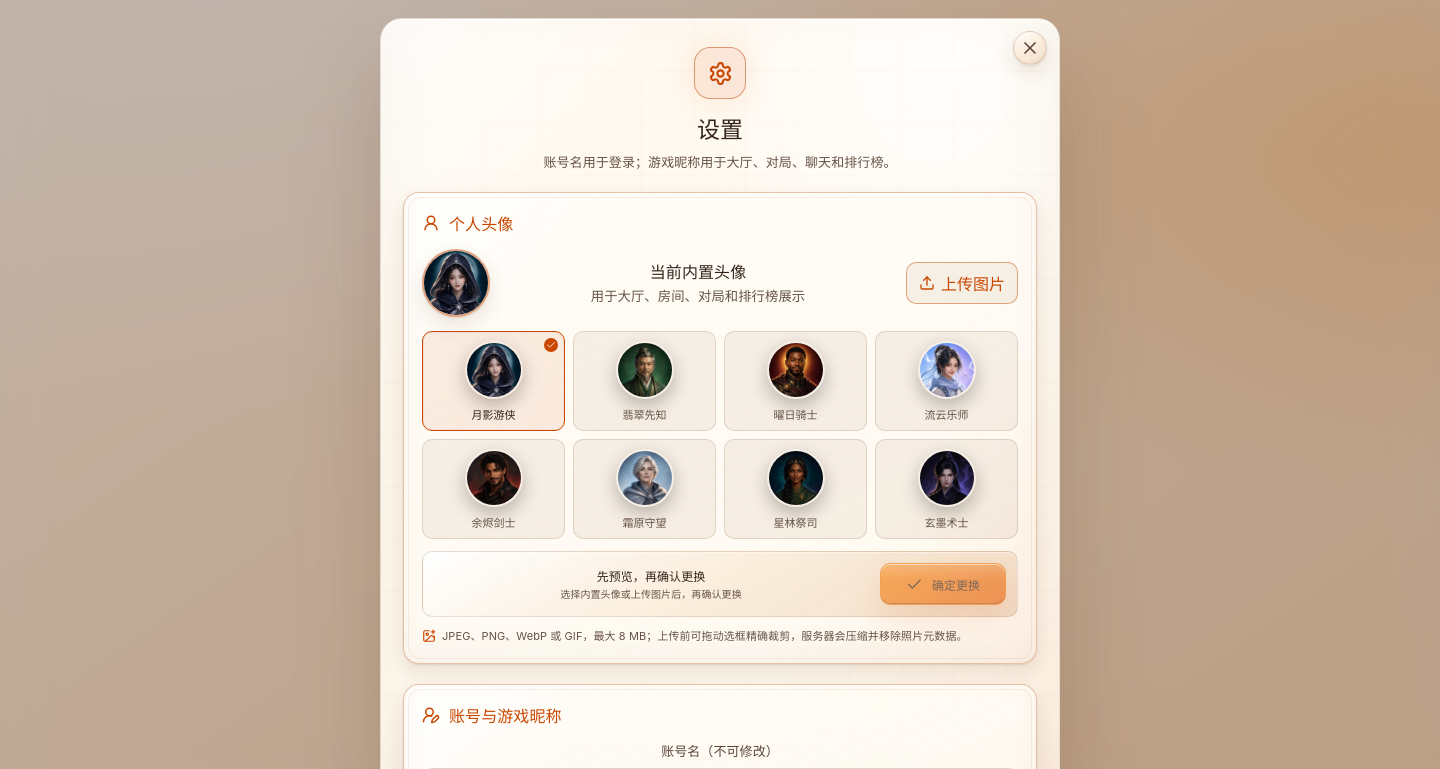
Test: SettingsModal › can discard a staged avatar without changing the account
The image size is (1440, 769).
Click the button "曜日骑士" at {"x": 796, "y": 381}, box top-left (724, 331), bottom-right (867, 431)
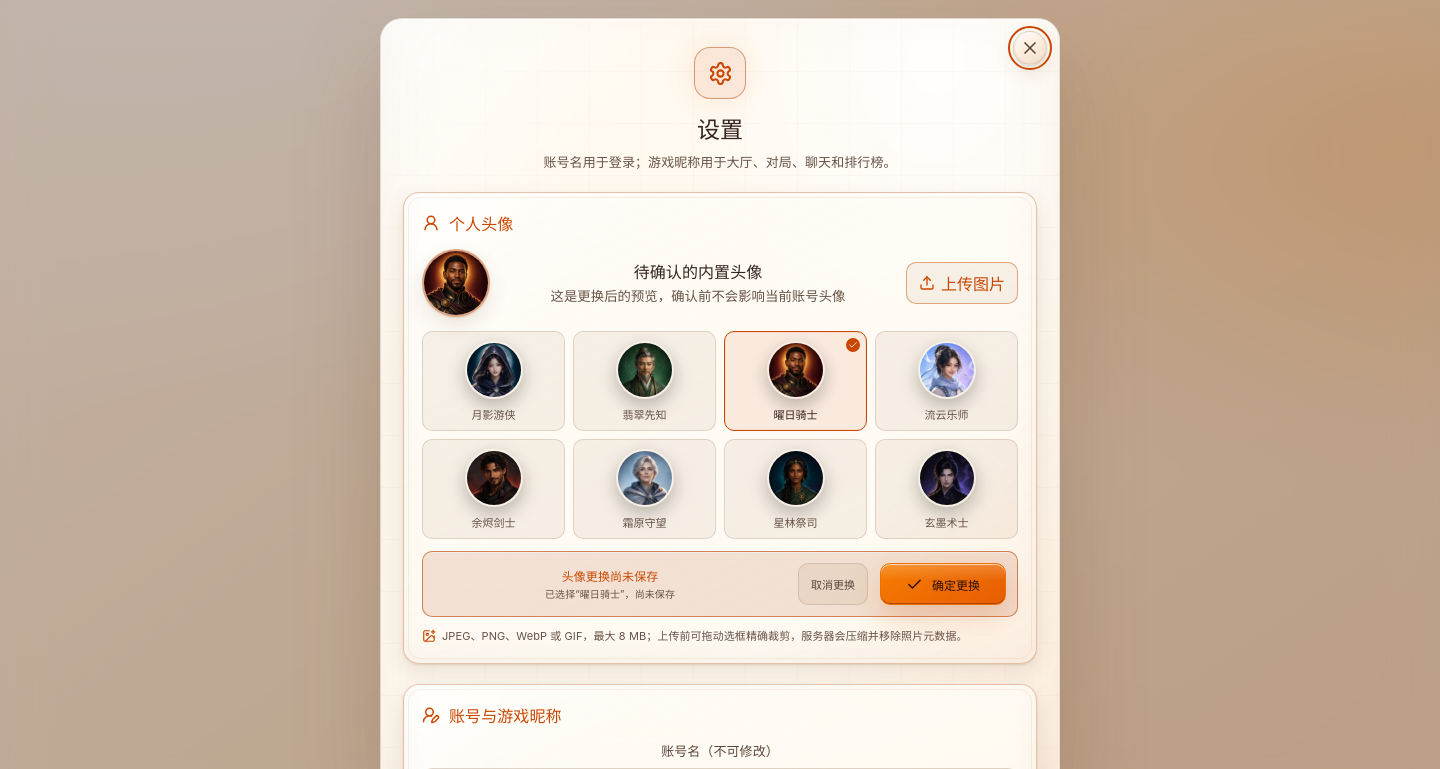
Click the button with class "avatar-discard-button" at {"x": 833, "y": 584}, box top-left (798, 563), bottom-right (868, 605)
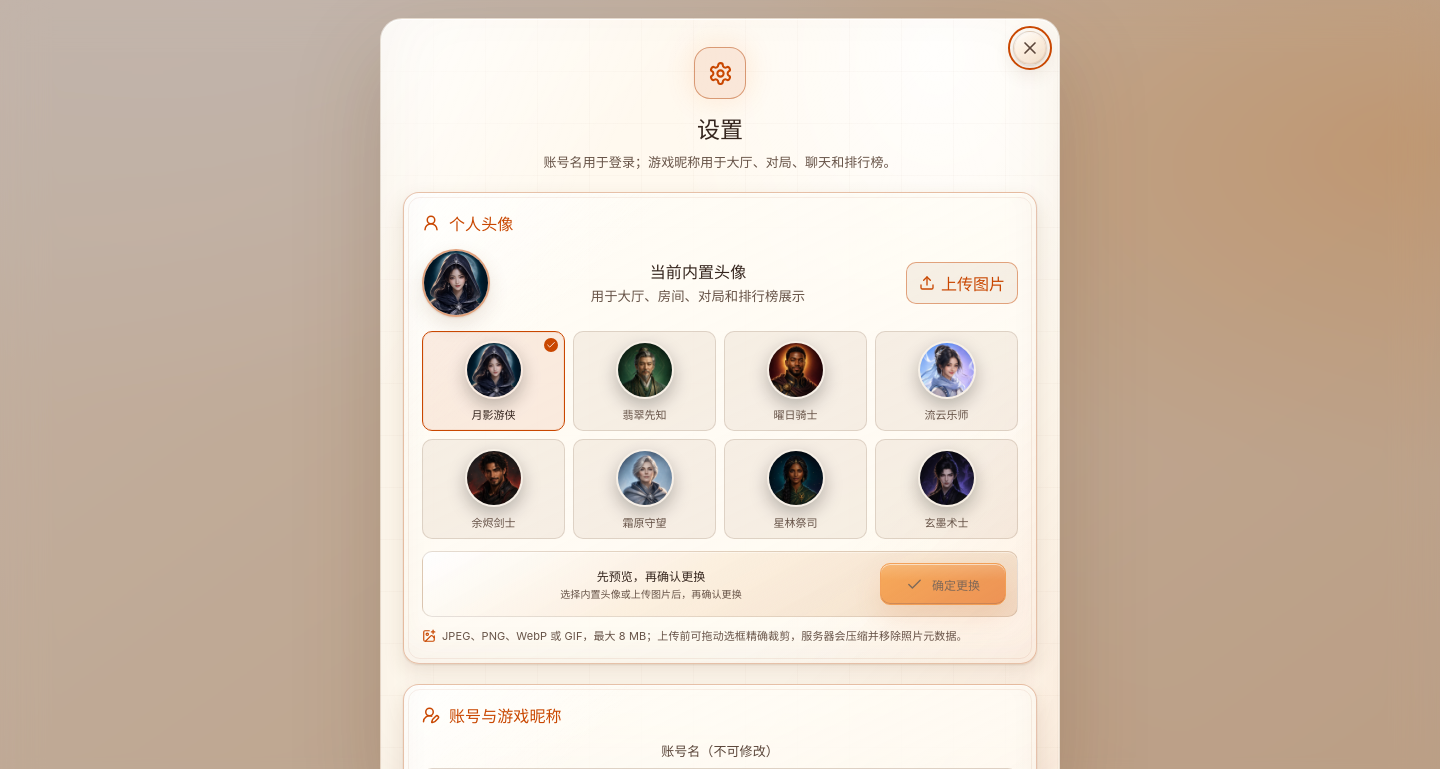
Expected: the button with class "avatar-confirm-button" is disabled, top-left (880, 563), bottom-right (1006, 605)
